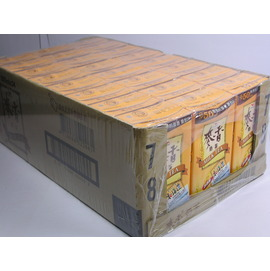milk tea: (232, 83, 259, 169), (166, 116, 193, 202)
w: (193, 91, 234, 195)
